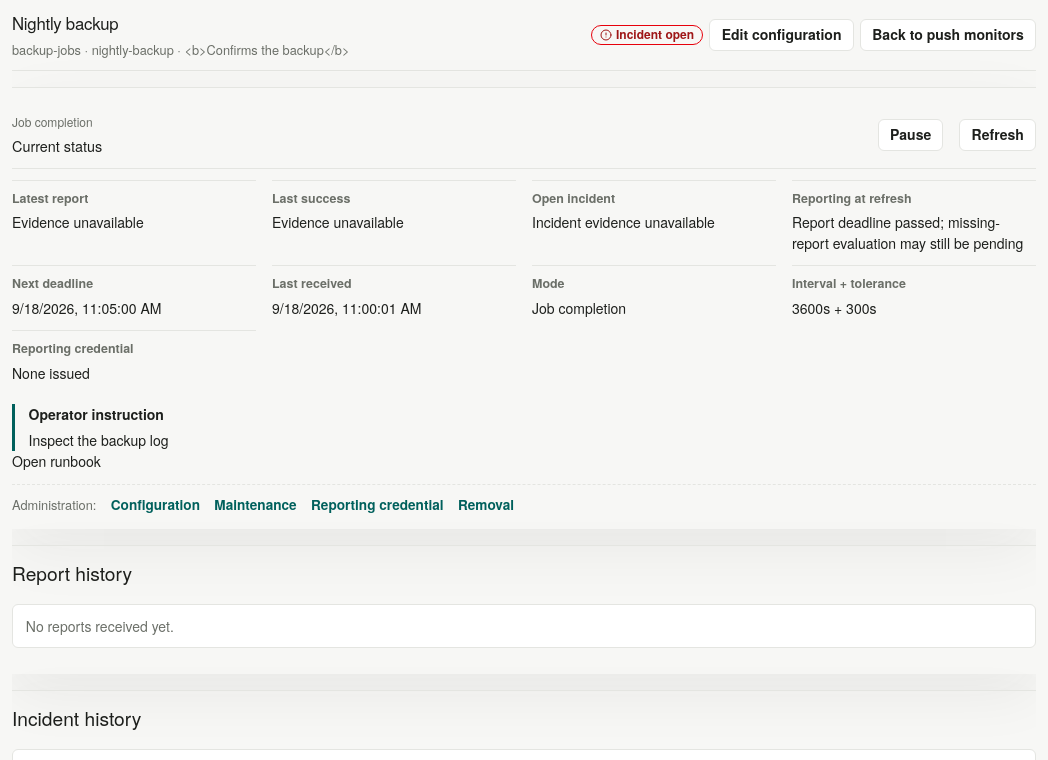
push monitor administration › shows purpose as text and clears it through the versioned form
Expected: the text "<b>Confirms the backup</b>" is shown, x1=184 y1=40 x2=349 y2=59
Expected: the field labelled "Purpose (optional)" is not shown
Click the button "Edit configuration": [782, 35] box x1=709 y1=19 x2=854 y2=51
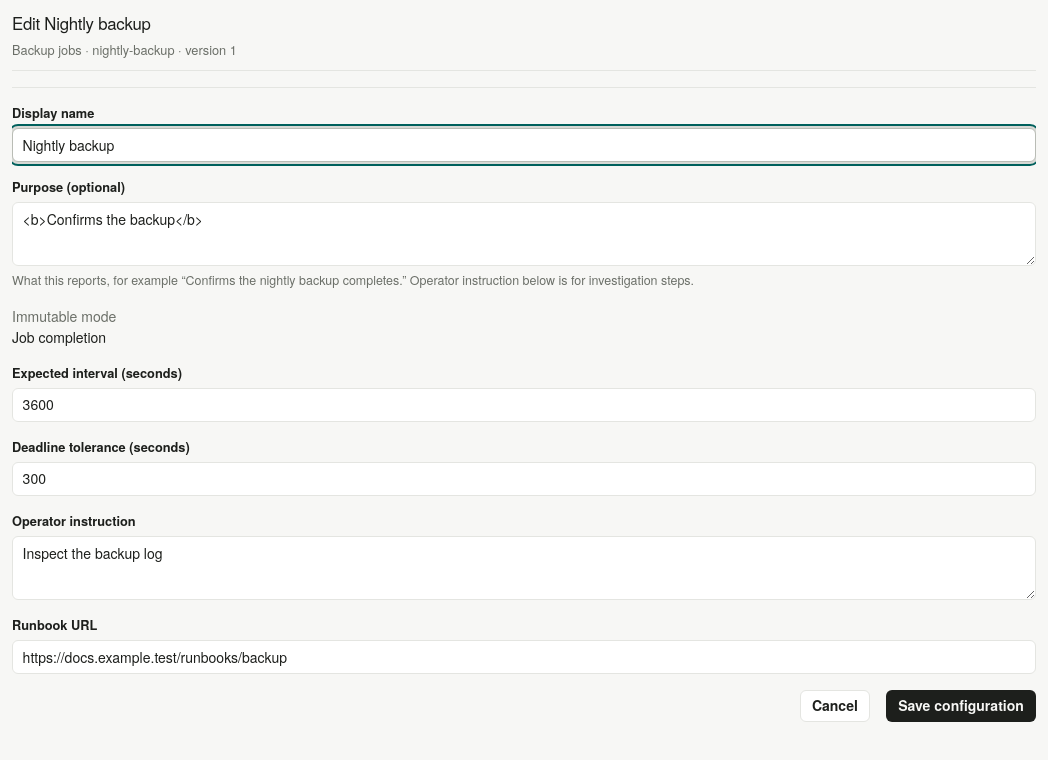
Clear the text box labelled "Purpose (optional)": [524, 234] box x1=12 y1=202 x2=1036 y2=266
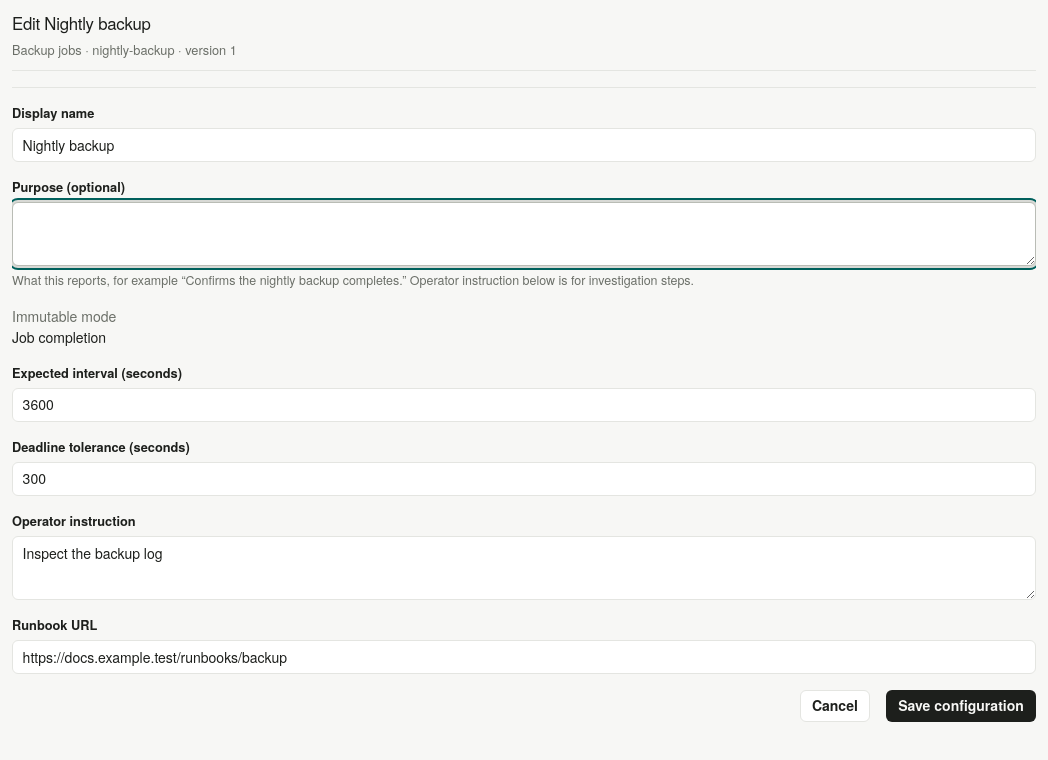
Click the button "Save configuration": [961, 706] box x1=886 y1=690 x2=1036 y2=722
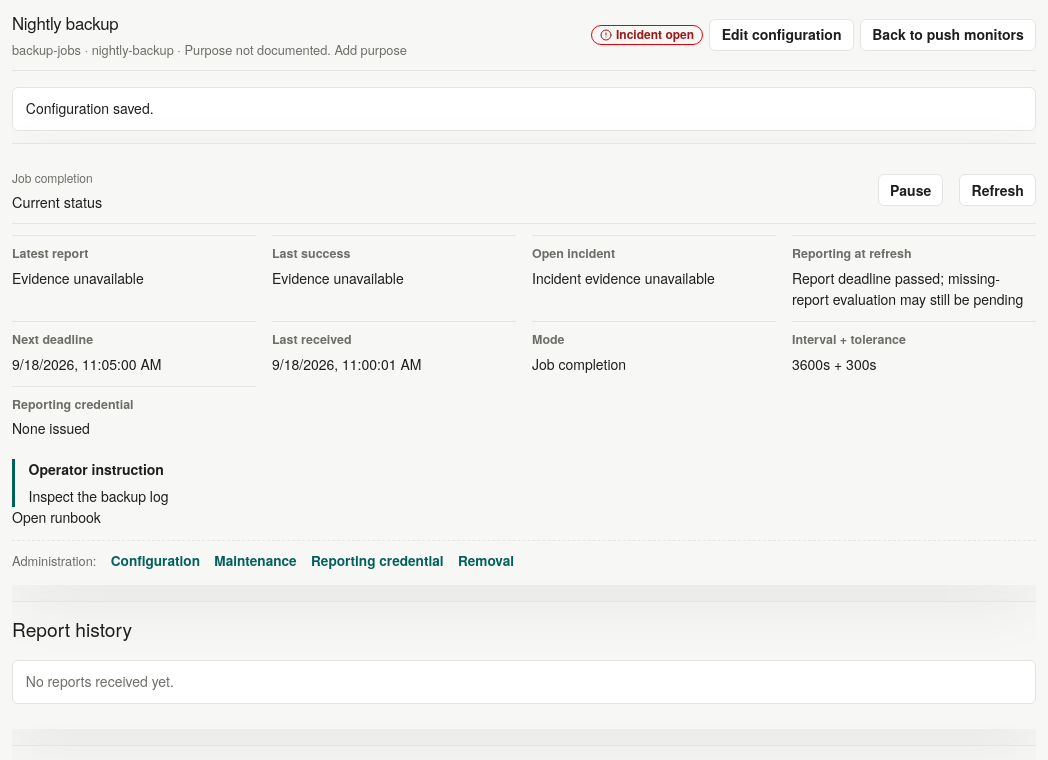
Result: the text "Purpose not documented. Add purpose" is shown at x1=184 y1=40 x2=407 y2=59
Result: the text "Configuration saved." is shown at x1=12 y1=87 x2=1036 y2=131
